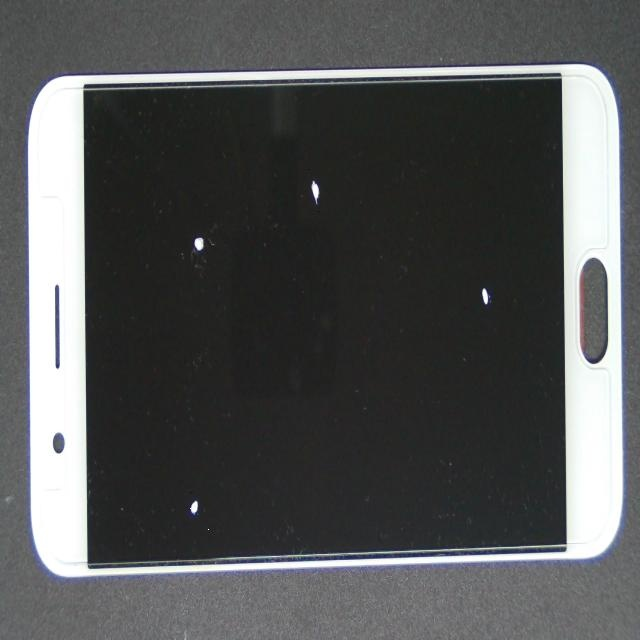stain: (209, 135, 640, 458), (138, 98, 457, 336), (88, 267, 268, 640), (119, 119, 307, 339)
